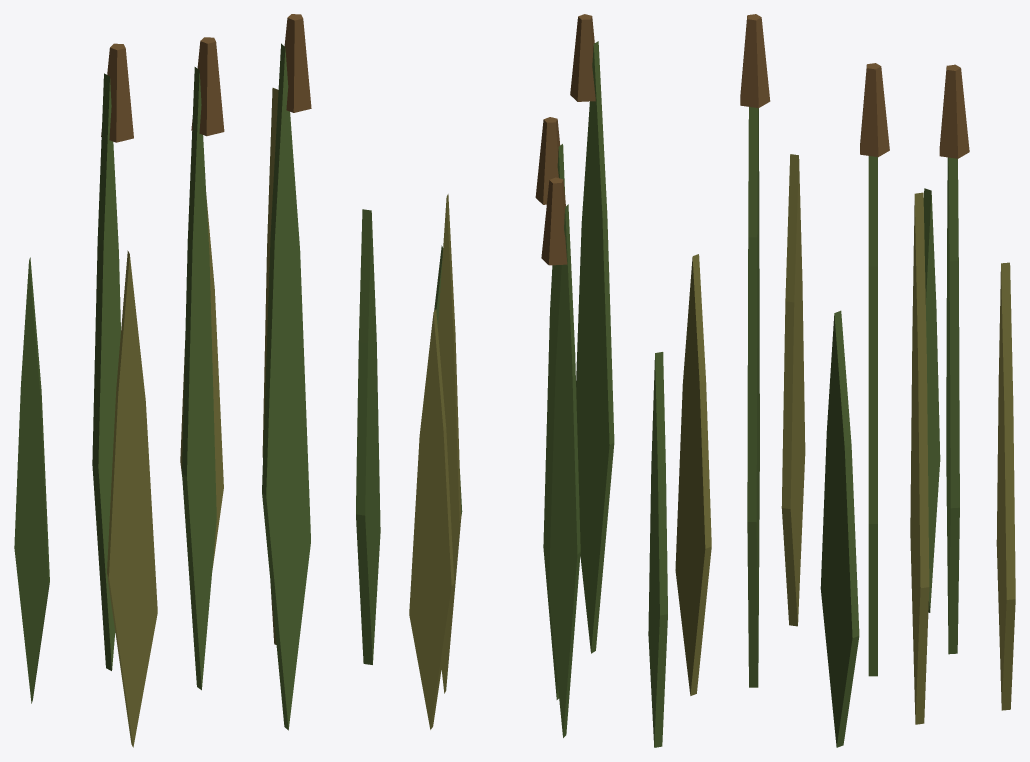
File: node_reeds.fbx
3 renders of one model, left to right at view 1: azimuth 30°, elevation 25°; view 2: azimuth 150°, elevation 25°; view 3: azimuth 270°, elevation 25°, orthographic. The views are drawn at different scales.
Visible parts, largest first — view 1: node_reeds; view 2: node_reeds; view 3: node_reeds.
Boxes of the visible parts, x1,y1,x2,y2 form: node_reeds: (14, 14, 380, 747); node_reeds: (409, 14, 711, 747); node_reeds: (740, 14, 1015, 747).
Bounding box in the file's own units: 0.5351 × 1.12 × 0.4145.
